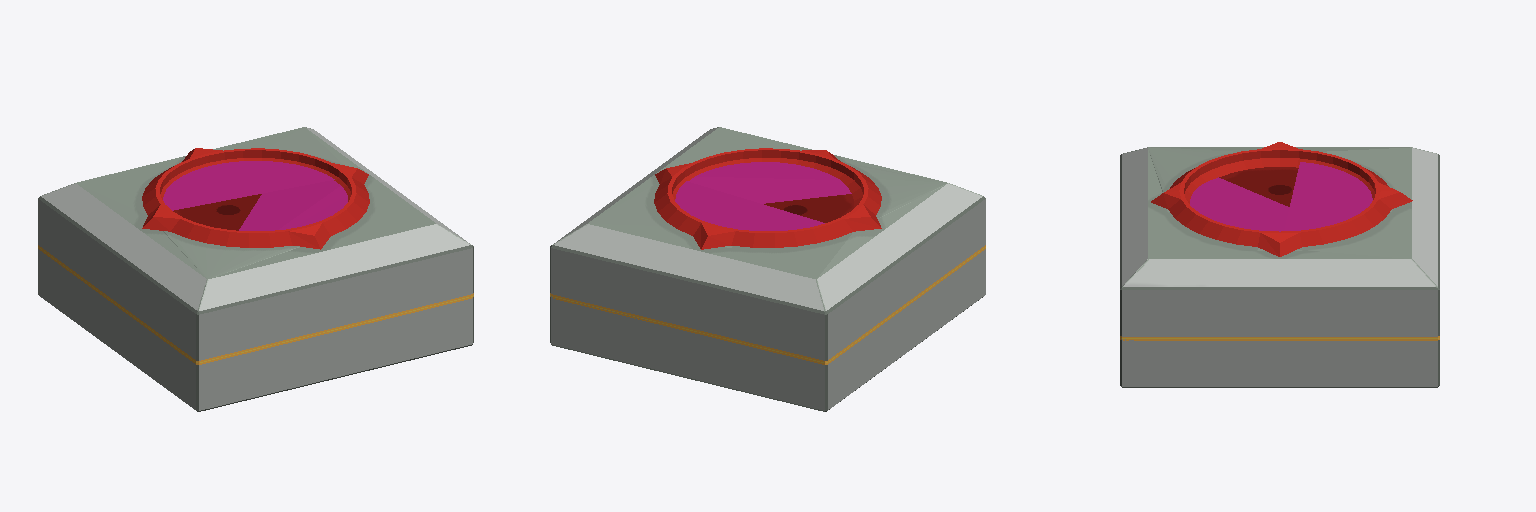
3 views of the same model, side by side, from view 1: azimuth 30°, elevation 25°; view 2: azimuth 150°, elevation 25°; view 3: azimuth 270°, elevation 25° (orthographic).
Parts seen in each view (by area): view 1: Cube.001; view 2: Cube.001; view 3: Cube.001.
Part boxes in pixels (bbox=[...]): Cube.001: bbox=[38, 127, 473, 411]; Cube.001: bbox=[550, 127, 985, 411]; Cube.001: bbox=[1120, 142, 1439, 387].
Bounding box in the file's own units: 2 × 0.8964 × 2.
1 materials, 1 textured.